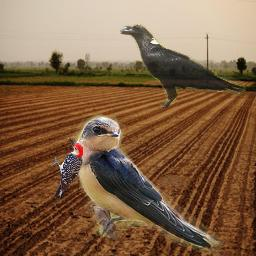Crow: (118, 24, 247, 111)
Swallow: (73, 109, 226, 256)
Woodpecker: (50, 137, 83, 199)
